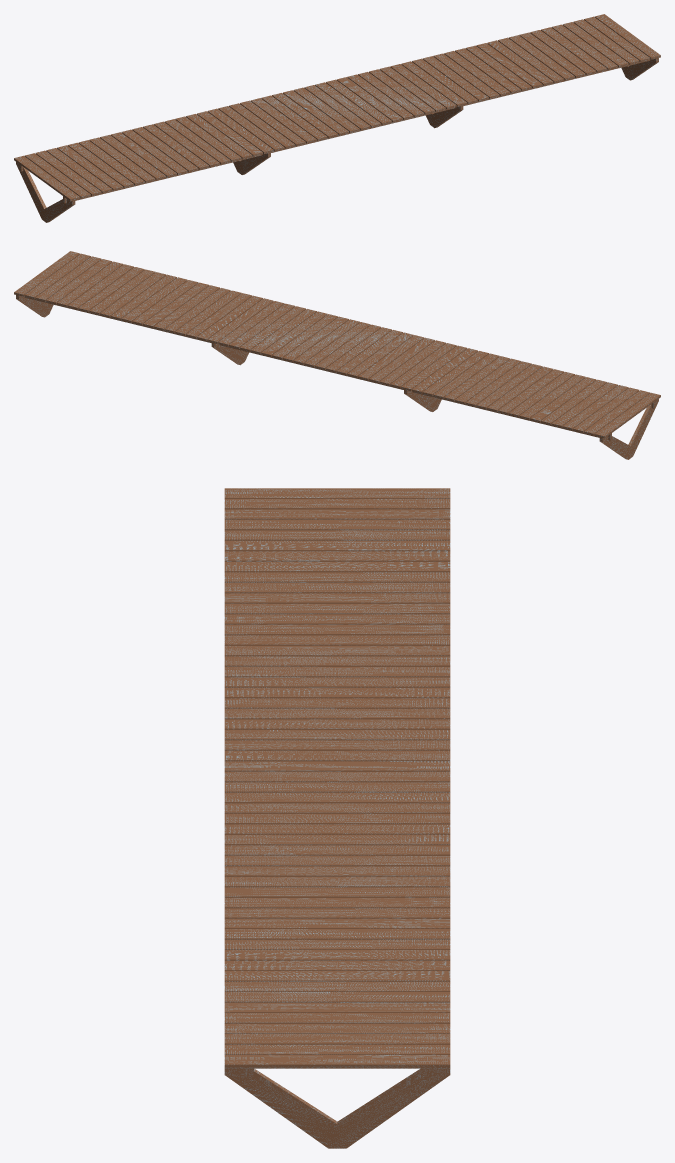
File: Platform.fbx
3 views of the same model, one above another, from view 1: azimuth 30°, elevation 25°; view 2: azimuth 150°, elevation 25°; view 3: azimuth 270°, elevation 25° (orthographic). The views are drawn at different scales.
Visible parts, largest first — view 1: Support1, Beam1, Board16, Board52, Board3, Board6, Board7, Board20, Board30, Board37, Board38, Board47 (+48 smaller); view 2: Support1, Beam2, Board16, Board52, Board3, Board6, Board7, Board20, Board30, Board37, Board38, Board47 (+48 smaller); view 3: Support2, Board44, Board3, Board4, Board7, Board9, Board10, Board12, Board13, Board19, Board20, Board21 (+44 smaller).
Part boxes in pixels (<box>): Support1: <box>16,162,75,222</box>; Beam1: <box>63,60,650,203</box>; Board16: <box>14,155,80,201</box>; Board52: <box>541,27,607,72</box>; Board3: <box>89,137,155,182</box>; Board6: <box>100,135,166,180</box>; Board7: <box>132,127,198,172</box>; Board20: <box>218,106,284,151</box>; Board30: <box>379,66,445,112</box>; Board37: <box>498,37,564,83</box>; Board38: <box>455,48,521,93</box>; Board47: <box>584,16,650,62</box>; Support1: <box>599,399,658,459</box>; Beam2: <box>24,297,611,440</box>; Board16: <box>594,392,660,438</box>; Board52: <box>67,264,133,309</box>; Board3: <box>519,374,585,419</box>; Board6: <box>508,372,574,417</box>; Board7: <box>476,364,542,409</box>; Board20: <box>390,343,456,388</box>; Board30: <box>229,303,295,349</box>; Board37: <box>110,274,176,320</box>; Board38: <box>153,285,219,330</box>; Board47: <box>24,253,90,299</box>; Support2: <box>224,1068,450,1148</box>; Board44: <box>224,1055,450,1068</box>; Board3: <box>224,561,450,572</box>; Board4: <box>224,582,450,593</box>; Board7: <box>224,603,450,614</box>; Board9: <box>224,624,450,635</box>; Board10: <box>224,666,450,677</box>; Board12: <box>224,540,450,551</box>; Board13: <box>224,519,450,530</box>; Board19: <box>224,708,450,719</box>; Board20: <box>224,687,450,698</box>; Board21: <box>224,834,450,845</box>.
Size of the model in its own units: 3020 by 210 by 500.
